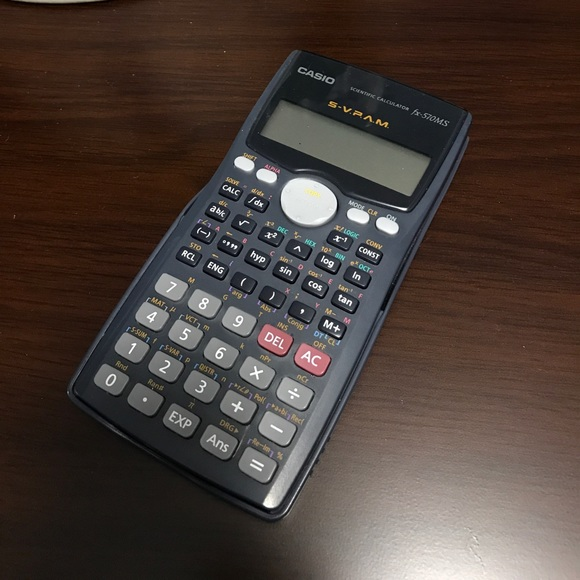Calculator: (57, 45, 482, 533)
